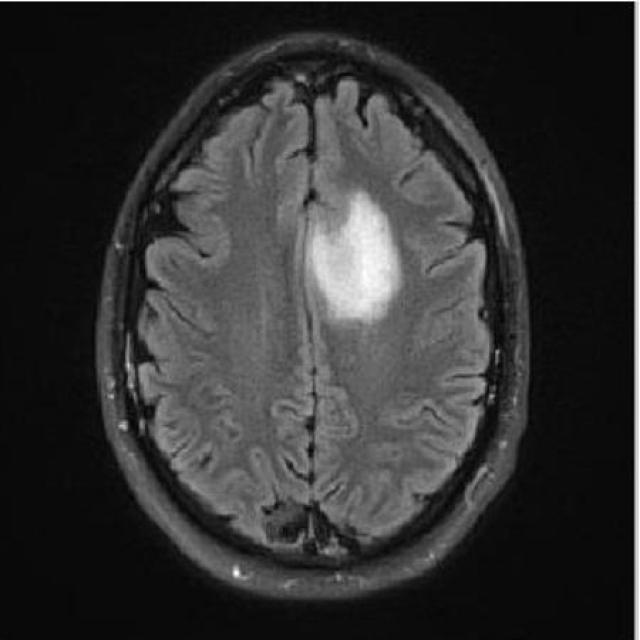Tumor-Cell: (285, 183, 415, 350)
